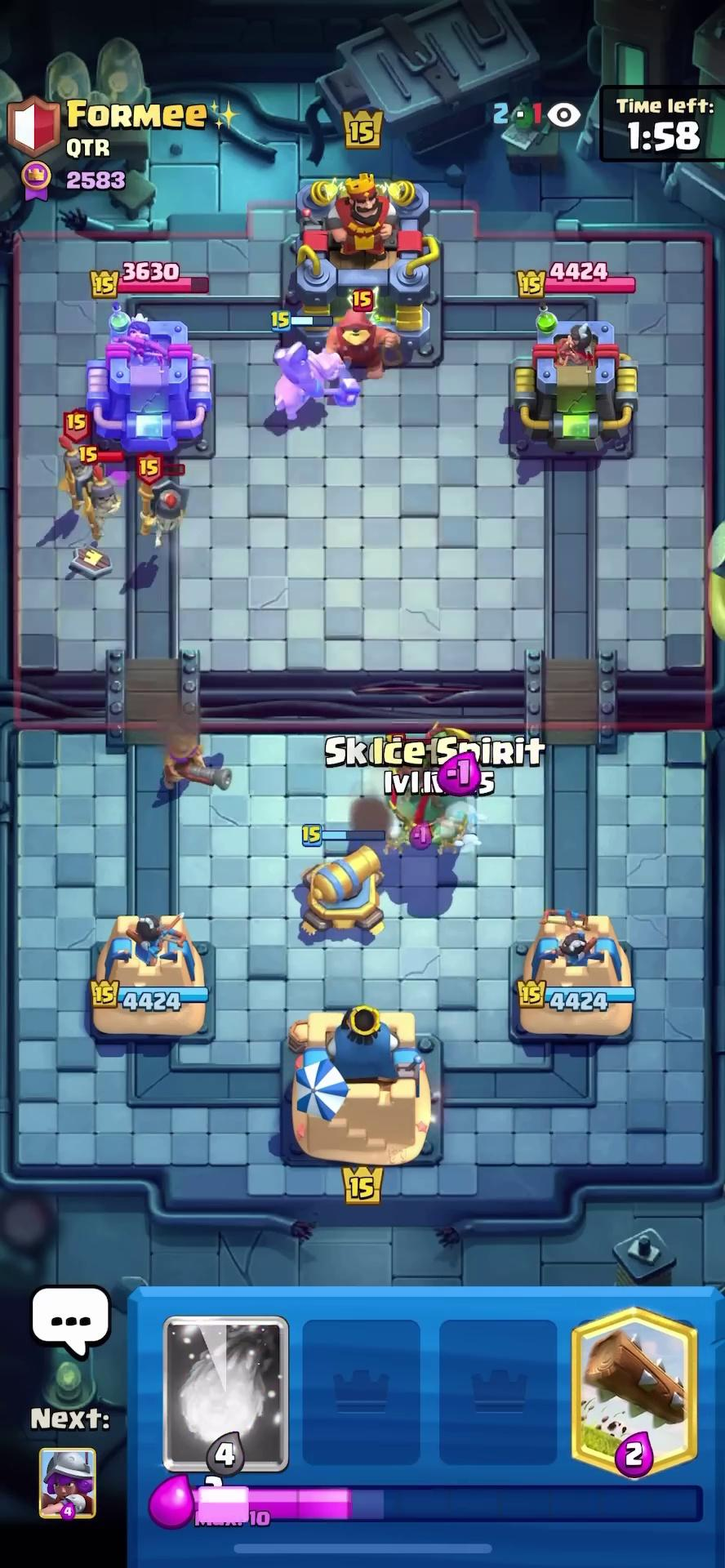cannon: (290, 829, 408, 933)
hog_rider: (259, 312, 351, 439)
musketeer: (147, 717, 225, 804)
